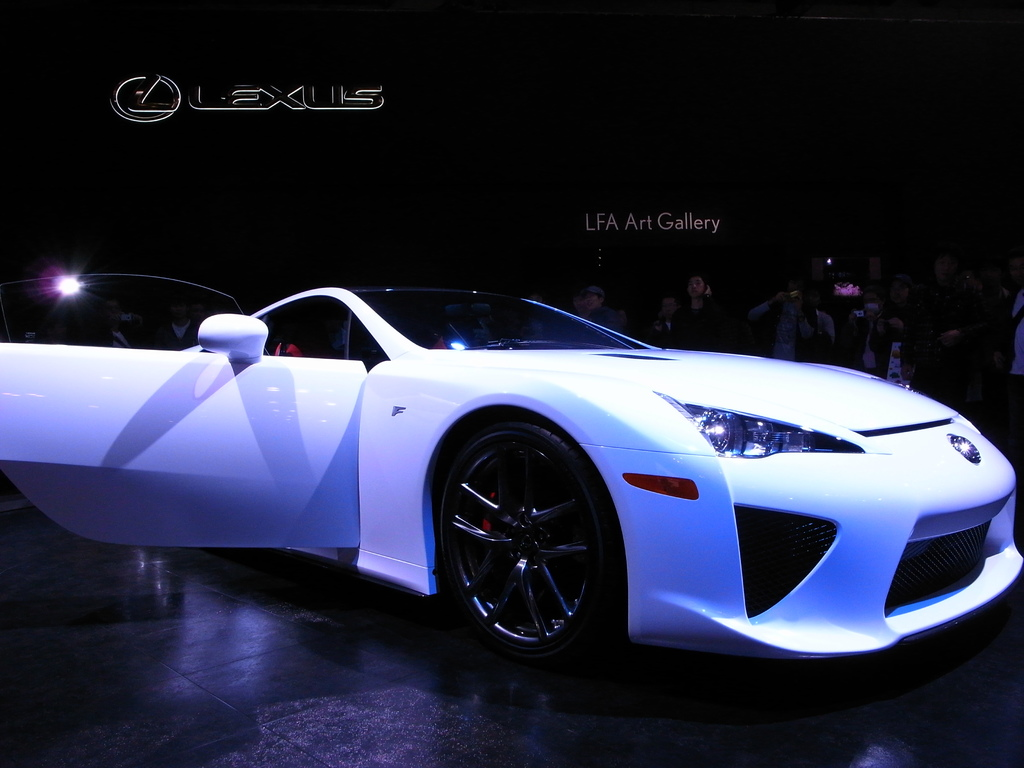Car: (0, 267, 1023, 669)
